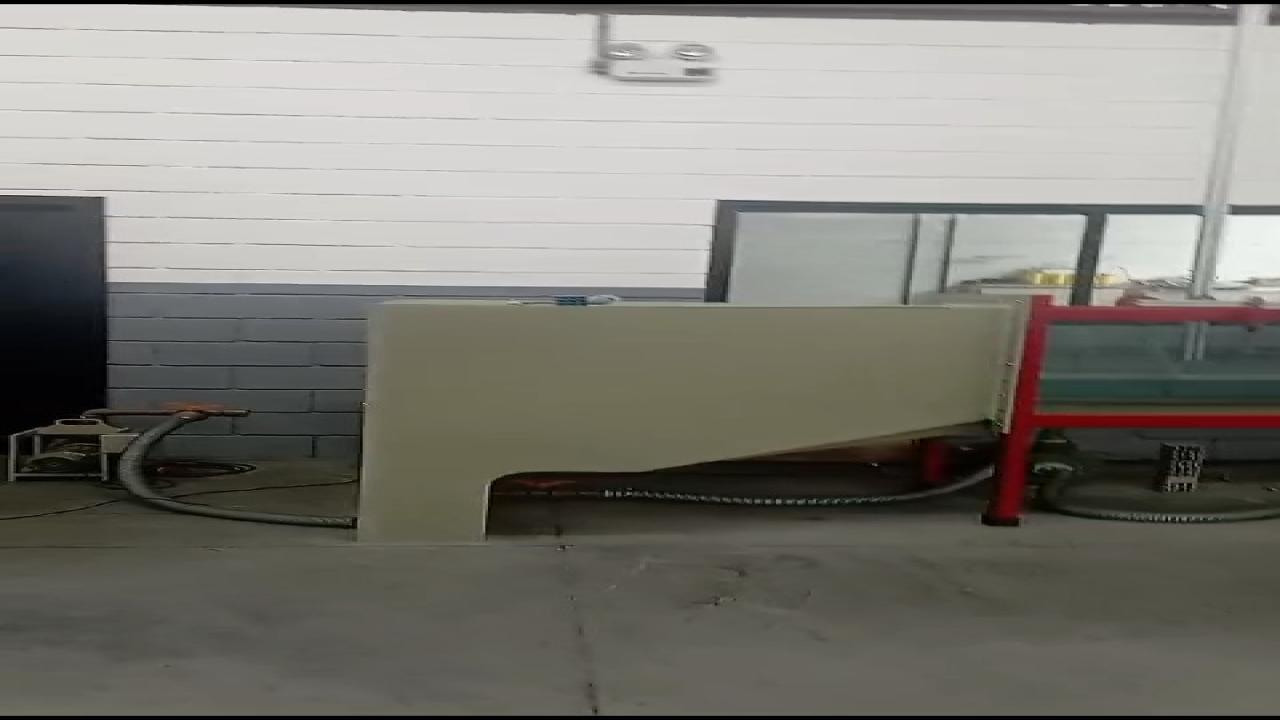Cube: (553, 295, 587, 306)
